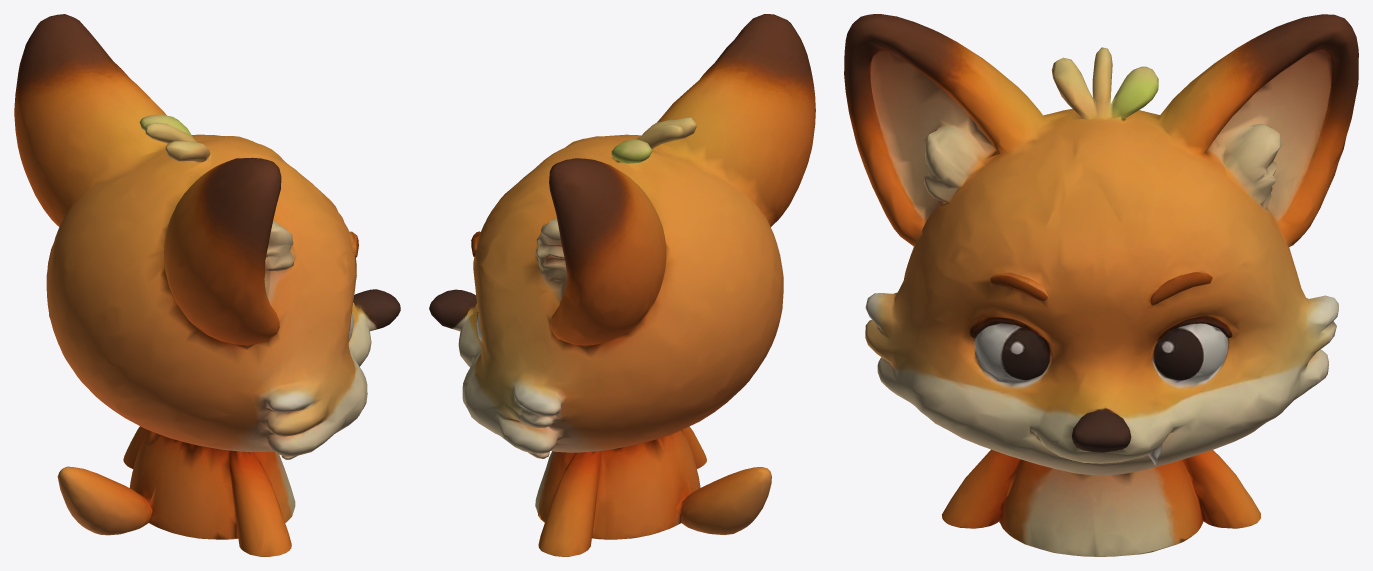
Rendered from head.glb.
The picture shows the model from 3 angles, left to right: view 1: azimuth 30°, elevation 25°; view 2: azimuth 150°, elevation 25°; view 3: azimuth 270°, elevation 25°; orthographic projection. The views are drawn at different scales.
Parts seen in each view (by area): view 1: tripo_node_e03fac4a-91f6-44f3-9e50-14a3cd15f480; view 2: tripo_node_e03fac4a-91f6-44f3-9e50-14a3cd15f480; view 3: tripo_node_e03fac4a-91f6-44f3-9e50-14a3cd15f480.
Boxes of the visible parts, bbox=[...] form: tripo_node_e03fac4a-91f6-44f3-9e50-14a3cd15f480: bbox=[14, 14, 400, 556]; tripo_node_e03fac4a-91f6-44f3-9e50-14a3cd15f480: bbox=[429, 14, 815, 556]; tripo_node_e03fac4a-91f6-44f3-9e50-14a3cd15f480: bbox=[844, 14, 1358, 556].
Bounding box in the file's own units: 0.8236 × 1 × 0.9801.
Materials: 1 (1 with a texture image).
